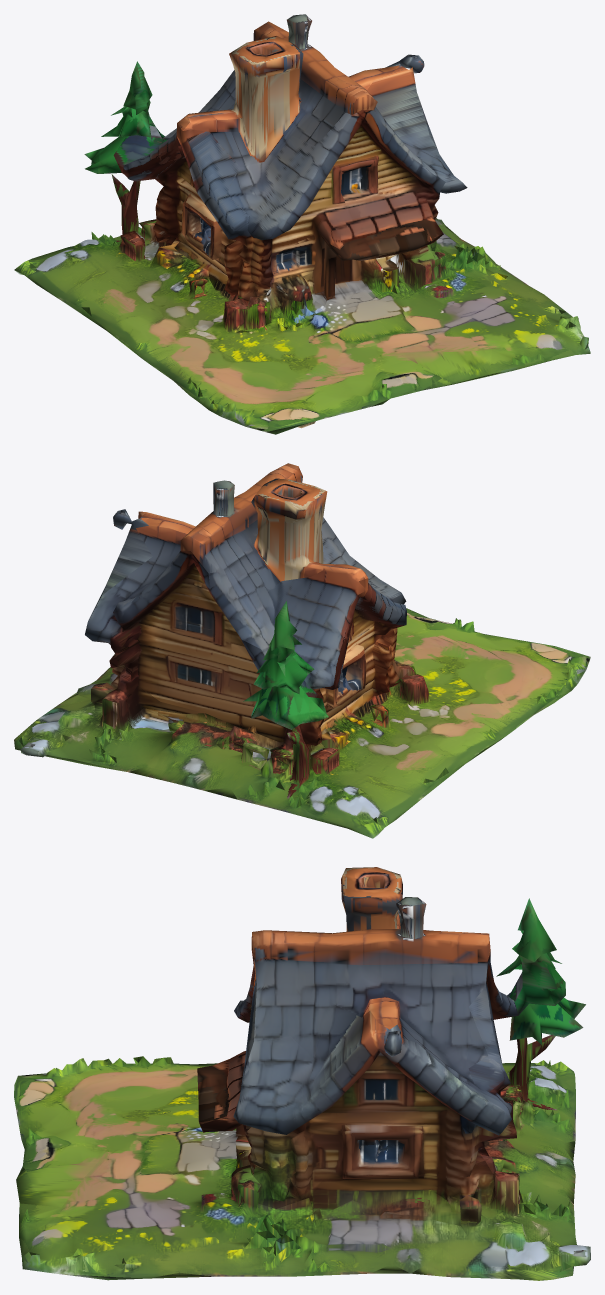
The model's file is hut_c.glb.
3 views of the same model, one above another, from view 1: azimuth 30°, elevation 25°; view 2: azimuth 150°, elevation 25°; view 3: azimuth 270°, elevation 25° (orthographic). The views are drawn at different scales.
Visible parts, largest first — view 1: world; view 2: world; view 3: world.
Part boxes in pixels (bbox=[...]): world: bbox=[14, 14, 590, 434]; world: bbox=[14, 463, 590, 838]; world: bbox=[14, 867, 590, 1280].
Size of the model in its own units: 0.8729 by 0.5783 by 0.9981.
1 material, 1 textured.
